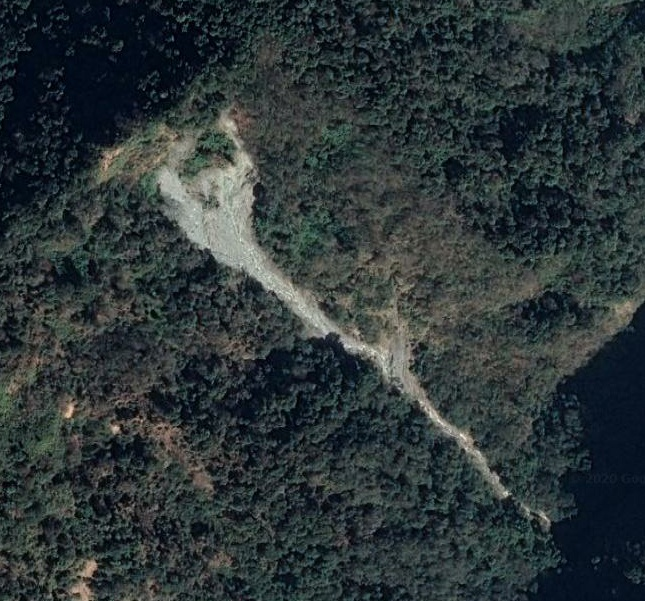slope: (150, 105, 549, 533)
